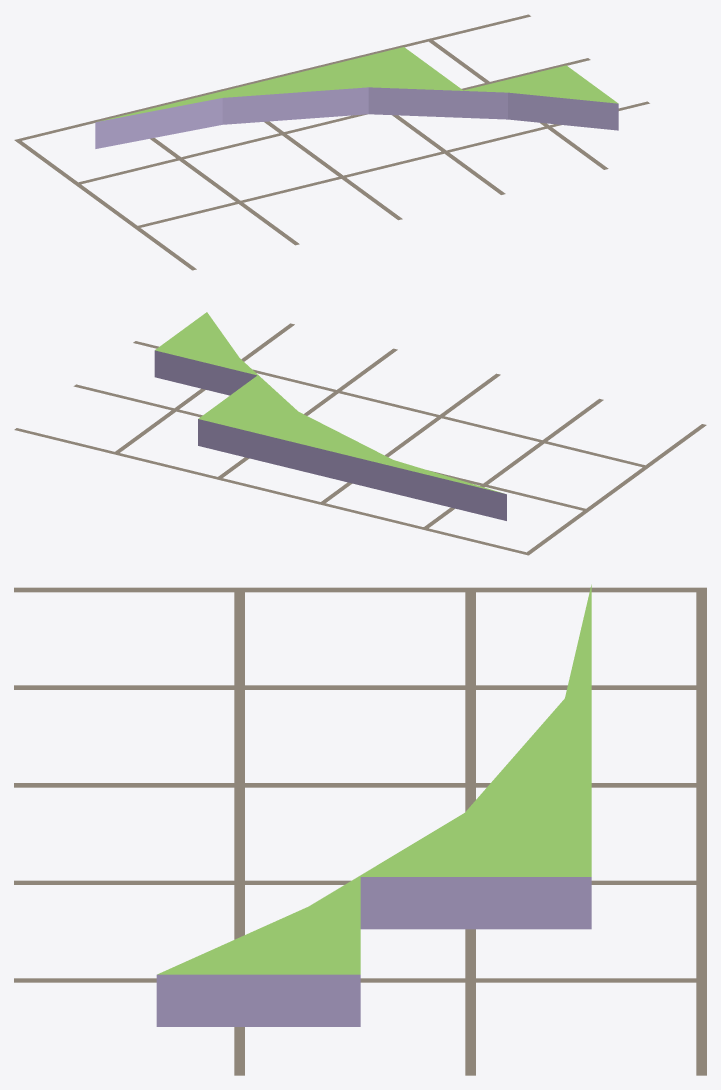
The model's file is Tiered_Grass_45_Degrees_Curve_Outer_Outside_2x4.glb.
The picture shows the model from 3 angles, top to bottom: view 1: azimuth 30°, elevation 25°; view 2: azimuth 150°, elevation 25°; view 3: azimuth 270°, elevation 25°; orthographic projection. The views are drawn at different scales.
Visible parts, largest first — view 1: Tiered_Grass_45_Degrees_Curve_Outer_Outside_2x4, Floor; view 2: Tiered_Grass_45_Degrees_Curve_Outer_Outside_2x4, Floor; view 3: Tiered_Grass_45_Degrees_Curve_Outer_Outside_2x4, Floor.
Part boxes in pixels (left/top/right/bottom): Tiered_Grass_45_Degrees_Curve_Outer_Outside_2x4: left=95, top=47, right=618, bottom=148; Floor: left=14, top=14, right=649, bottom=270; Tiered_Grass_45_Degrees_Curve_Outer_Outside_2x4: left=154, top=312, right=506, bottom=520; Floor: left=14, top=323, right=706, bottom=555; Tiered_Grass_45_Degrees_Curve_Outer_Outside_2x4: left=156, top=584, right=591, bottom=1026; Floor: left=14, top=587, right=706, bottom=1075.
Bounding box in the file's own units: 500 × 25 × 300.
Materials: 4 (1 with a texture image).
